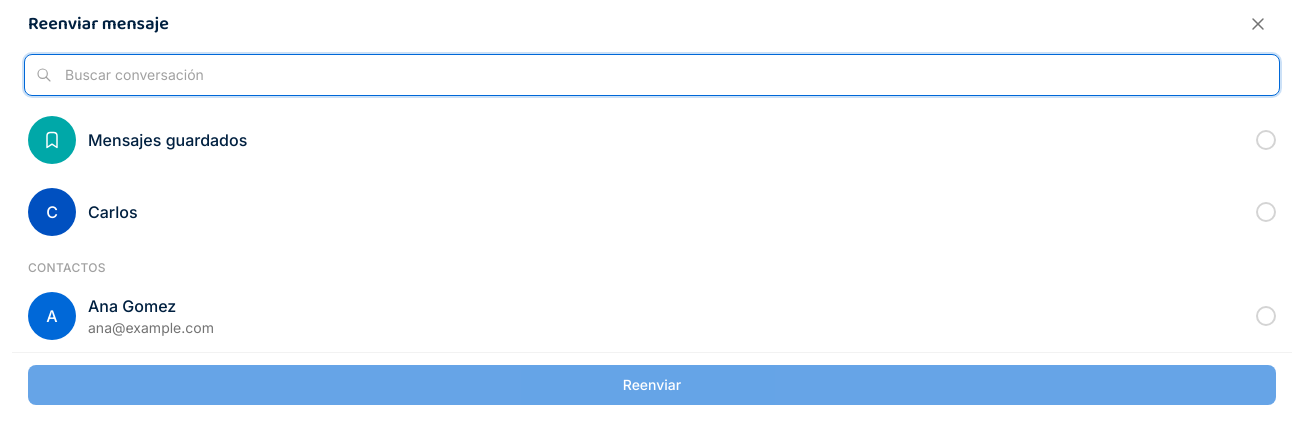
Scenario: ForwardMessageModal › filtra por búsqueda y muestra 'Sin resultados' si no hay coincidencia
Type "NoExisteNadie" into the field with placeholder "Buscar conversación" at (652, 75), box [24,54,1280,96]
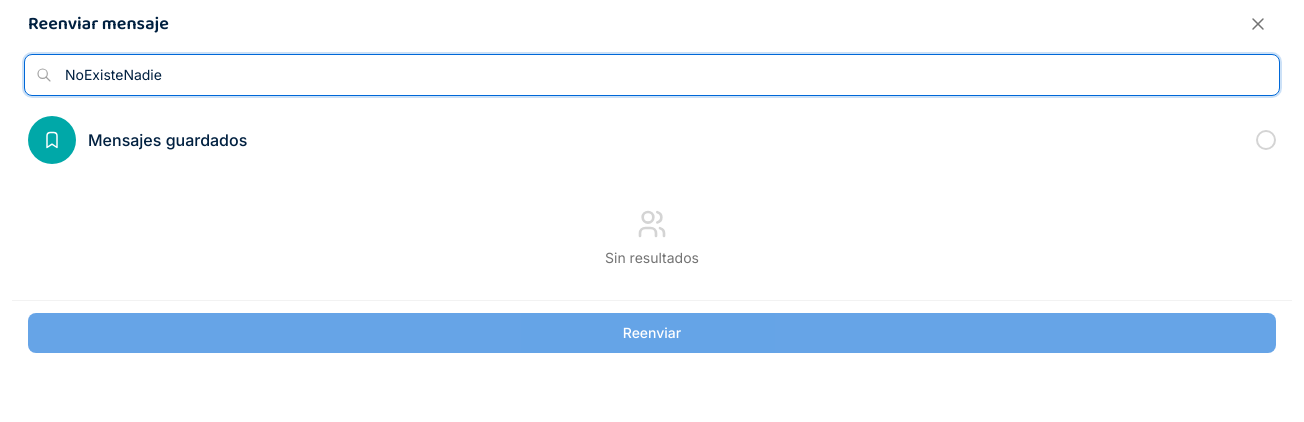
Check: the button "Carlos" is gone
Check: the button "Ana Gomez" is gone
Check: the text "Sin resultados" is shown, box [605,248,699,268]
